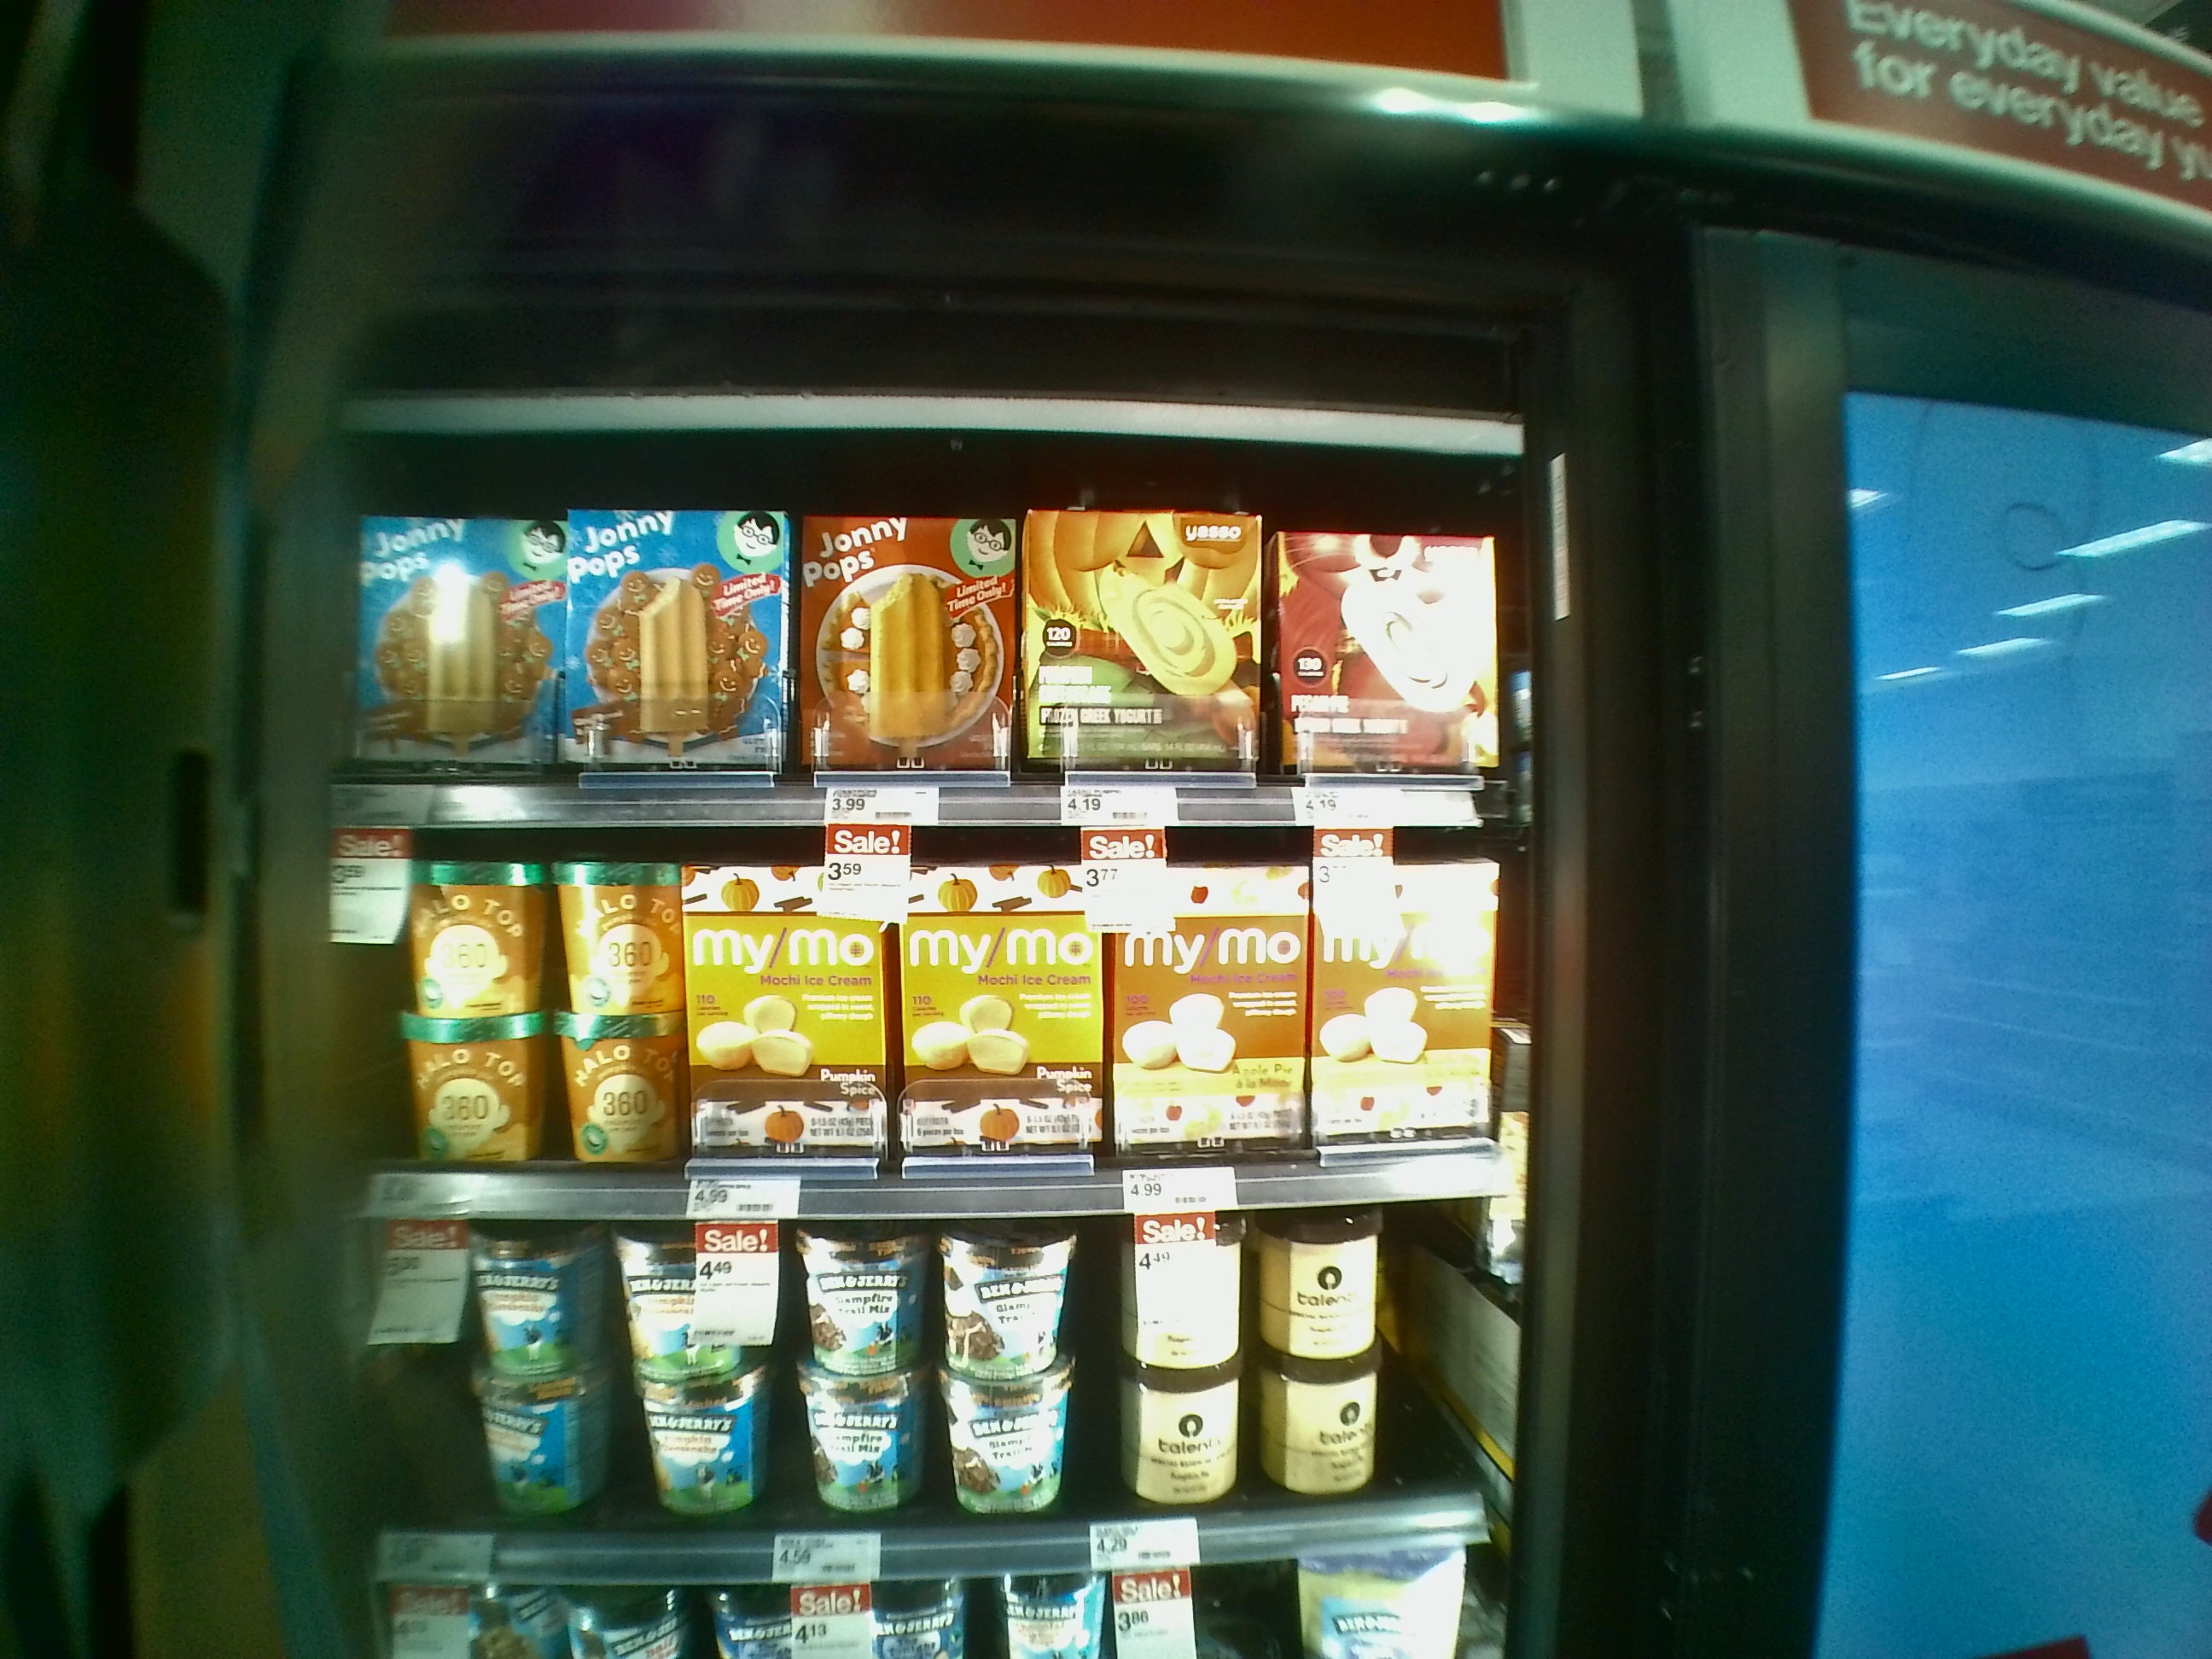shelf: (291, 802, 1541, 1229), (296, 429, 1554, 829), (296, 1175, 1512, 1551)
